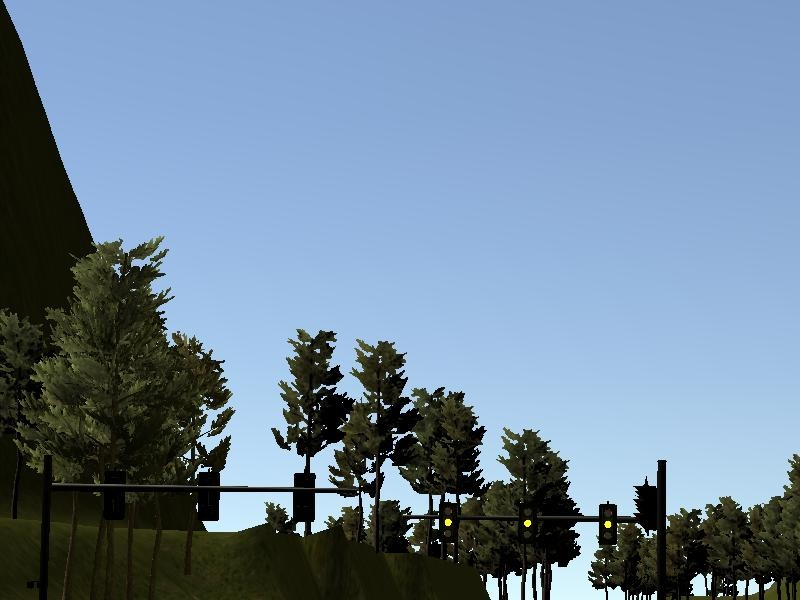Yellow: (598, 504, 618, 544), (518, 505, 538, 545), (439, 502, 459, 542)
